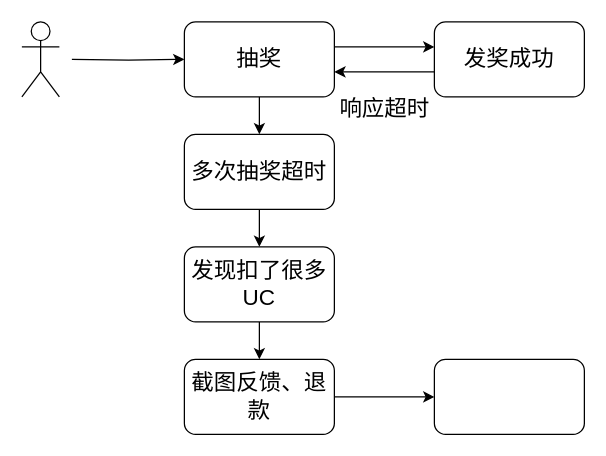
Image size: 606x456. Some labels were removed from this diagram. Each missing label, with the box of its shape:
客服人力浪费: (433, 358, 584, 434)
玩家: (21, 21, 59, 97)
